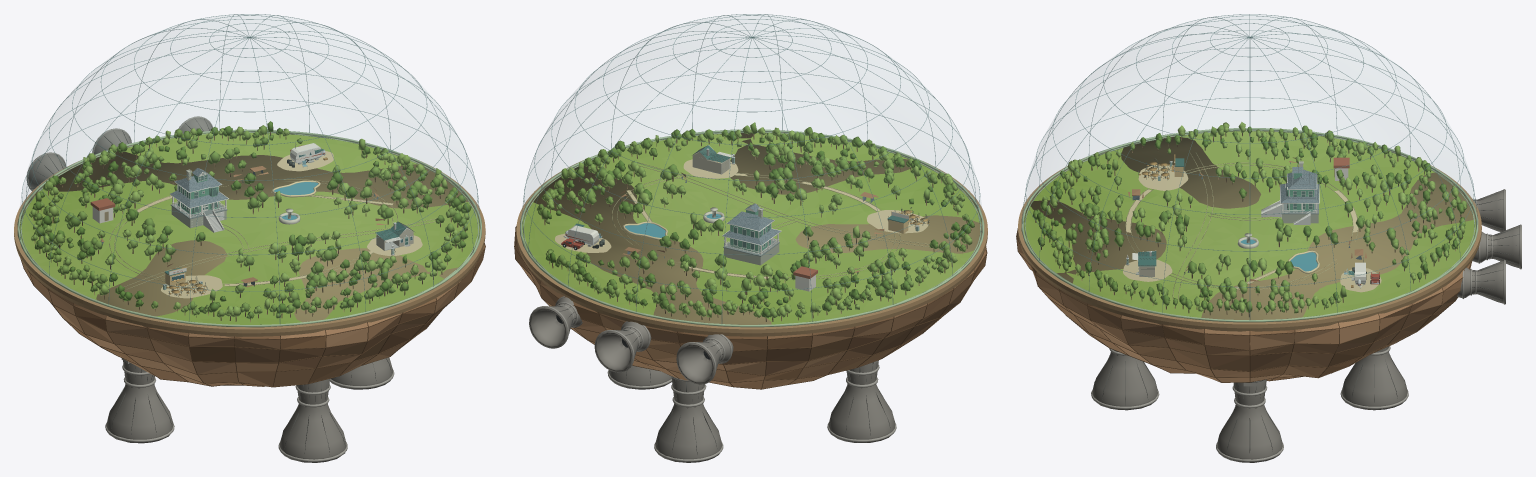
File: regularshow_space_dome_planet_far.glb
3 views of the same model, side by side, from view 1: azimuth 30°, elevation 25°; view 2: azimuth 150°, elevation 25°; view 3: azimuth 270°, elevation 25° (orthographic).
Parts seen in each view (by area): view 1: DOMO | Hemisferio de vidrio transparente, DOMO | Suelo verde del parque, DOMO | Copas de 340 arboles del parque, DOMO | Casco rocoso escalonado, DOMO | Espesor del terreno, DOMO | Meridianos y paralelos de la cupula, DOMO | Cuatro campanas y cuellos de propulsion, DOMO | Cinturon superior de tierra, DOMO | Grietas y divisiones de los bloques, DOMO | Anillo sellado del hemisferio, DOMO | Setos y arbustos bajos, DOMO | Troncos y ramas (+12 smaller); view 2: DOMO | Hemisferio de vidrio transparente, DOMO | Suelo verde del parque, DOMO | Copas de 340 arboles del parque, DOMO | Espesor del terreno, DOMO | Casco rocoso escalonado, DOMO | Meridianos y paralelos de la cupula, DOMO | Cuatro campanas y cuellos de propulsion, DOMO | Cinturon superior de tierra, DOMO | Anillo sellado del hemisferio, DOMO | Grietas y divisiones de los bloques, DOMO | Setos y arbustos bajos, DOMO | Motor trasero central | Campana hueca (+13 smaller); view 3: DOMO | Hemisferio de vidrio transparente, DOMO | Suelo verde del parque, DOMO | Copas de 340 arboles del parque, DOMO | Casco rocoso escalonado, DOMO | Espesor del terreno, DOMO | Meridianos y paralelos de la cupula, DOMO | Cuatro campanas y cuellos de propulsion, DOMO | Cinturon superior de tierra, DOMO | Grietas y divisiones de los bloques, DOMO | Anillo sellado del hemisferio, DOMO | Setos y arbustos bajos, DOMO | Troncos y ramas (+11 smaller).
Boxes of the visible parts, x1,y1,x2,y2 form: DOMO | Hemisferio de vidrio transparente: (20, 15, 479, 215); DOMO | Suelo verde del parque: (20, 133, 479, 324); DOMO | Copas de 340 arboles del parque: (29, 121, 471, 318); DOMO | Casco rocoso escalonado: (21, 244, 484, 386); DOMO | Espesor del terreno: (19, 151, 479, 325); DOMO | Meridianos y paralelos de la cupula: (20, 14, 479, 323); DOMO | Cuatro campanas y cuellos de propulsion: (106, 357, 393, 462); DOMO | Cinturon superior de tierra: (14, 145, 485, 336); DOMO | Grietas y divisiones de los bloques: (20, 243, 485, 387); DOMO | Anillo sellado del hemisferio: (17, 129, 481, 327); DOMO | Setos y arbustos bajos: (33, 134, 457, 318); DOMO | Troncos y ramas: (33, 132, 466, 322); DOMO | Hemisferio de vidrio transparente: (522, 15, 981, 215); DOMO | Suelo verde del parque: (522, 133, 981, 324); DOMO | Copas de 340 arboles del parque: (536, 122, 974, 318); DOMO | Espesor del terreno: (522, 133, 981, 324); DOMO | Casco rocoso escalonado: (515, 227, 986, 388); DOMO | Meridianos y paralelos de la cupula: (522, 14, 981, 323); DOMO | Cuatro campanas y cuellos de propulsion: (609, 361, 895, 462); DOMO | Cinturon superior de tierra: (516, 132, 987, 336); DOMO | Anillo sellado del hemisferio: (520, 129, 984, 327); DOMO | Grietas y divisiones de los bloques: (514, 226, 987, 389); DOMO | Setos y arbustos bajos: (540, 137, 949, 314); DOMO | Motor trasero central | Campana hueca: (595, 321, 651, 371); DOMO | Hemisferio de vidrio transparente: (1023, 15, 1476, 214); DOMO | Suelo verde del parque: (1024, 131, 1475, 317); DOMO | Copas de 340 arboles del parque: (1032, 122, 1467, 312); DOMO | Casco rocoso escalonado: (1017, 231, 1471, 382); DOMO | Espesor del terreno: (1024, 132, 1475, 319); DOMO | Meridianos y paralelos de la cupula: (1022, 14, 1477, 319); DOMO | Cuatro campanas y cuellos de propulsion: (1092, 346, 1407, 462); DOMO | Cinturon superior de tierra: (1018, 130, 1481, 331); DOMO | Grietas y divisiones de los bloques: (1016, 228, 1472, 382); DOMO | Anillo sellado del hemisferio: (1021, 128, 1478, 322); DOMO | Setos y arbustos bajos: (1051, 137, 1456, 313); DOMO | Troncos y ramas: (1035, 133, 1463, 317).
Size of the model in its own units: 32.42 by 27.66 by 35.23.
